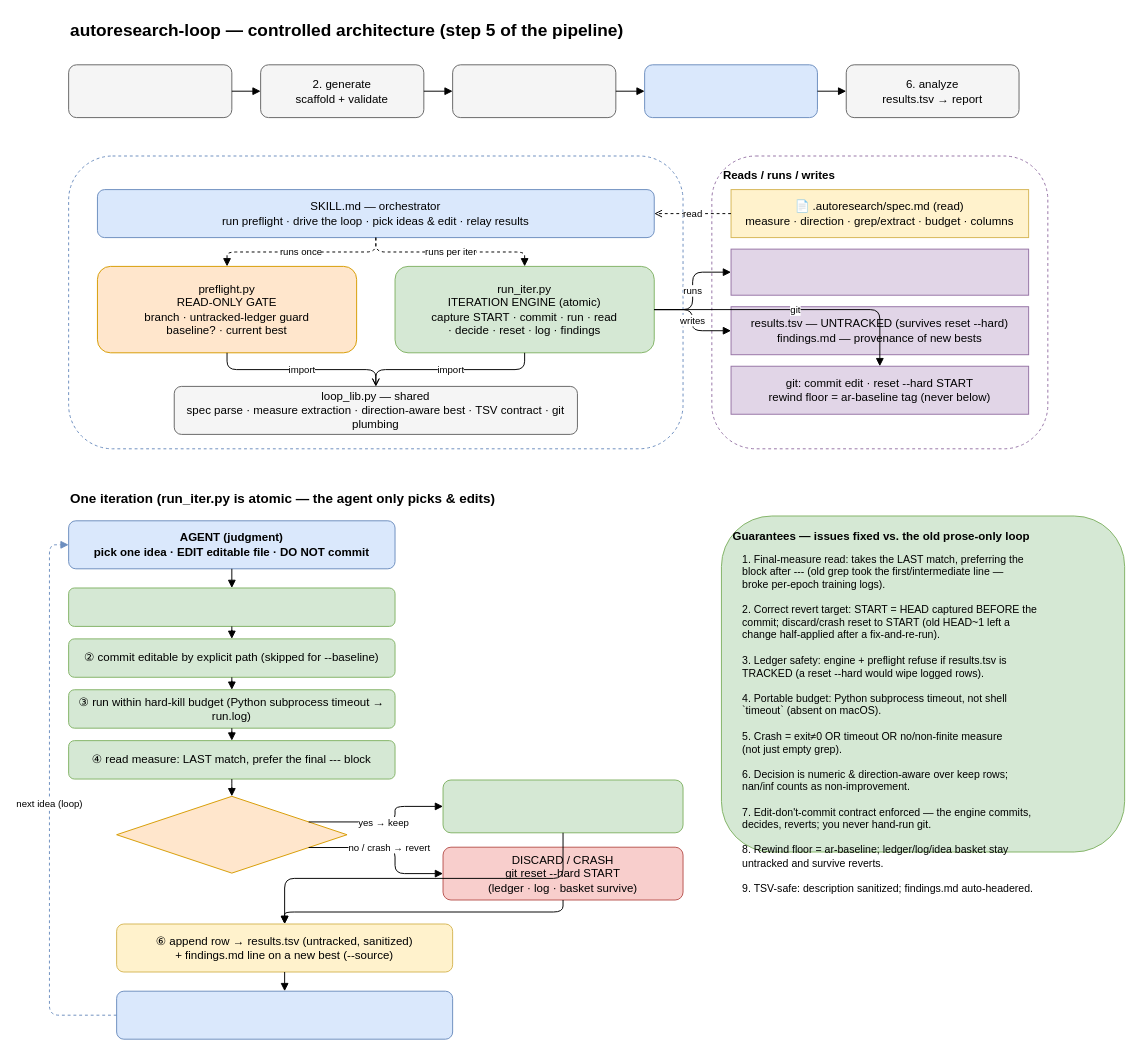
This 1141x1056 diagram has some shape labels left out. Here are the shapes that lost their labels. From the top down, the box of each, then its label:
(68, 64, 232, 118): 1. init spec.md
(452, 64, 616, 118): 3. setup branch + baseline tag
(644, 64, 817, 118): 4–5. experiment / loop (this skill)
(730, 248, 1029, 295): runner_command → run.log (per run, untracked; subprocess timeout)
(68, 155, 683, 449): Components
(68, 587, 395, 626): ① capture START = HEAD (edit still uncommitted ⇒ true pre-experiment commit)
(442, 779, 683, 833): KEEP leave HEAD on the new commit (or --keep-anyway for a simplification)
(116, 795, 347, 873): ⑤ clean run & strictly better? (exit 0, in budget, finite, direction-aware)
(116, 990, 453, 1039): ⑦ continue — NEVER STOP (crash? trivial fix → fresh iteration; else next idea)
